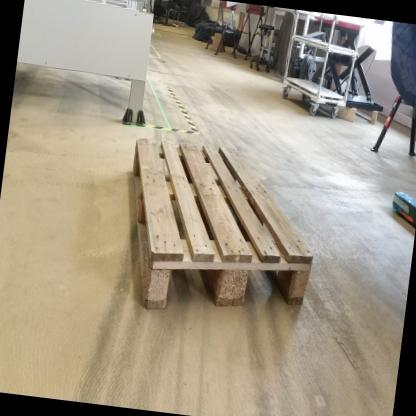BoxFace: (127, 131, 320, 317)
